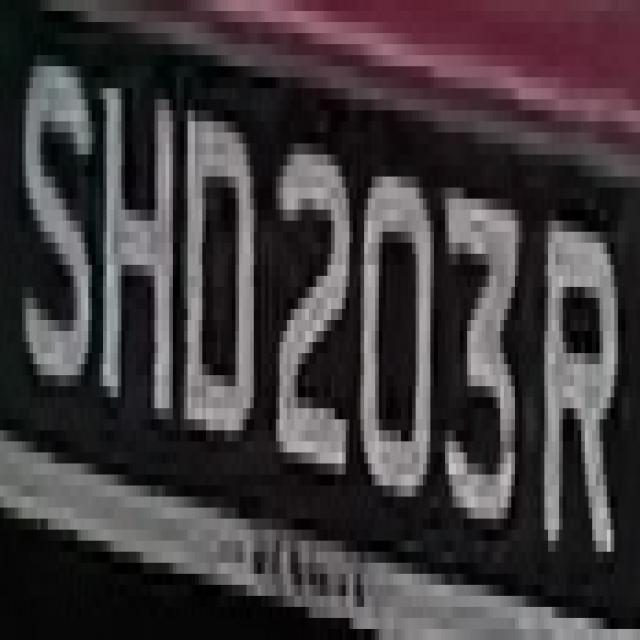0: (349, 121, 445, 508)
2: (276, 88, 349, 519)
3: (441, 154, 526, 540)
D: (184, 66, 257, 464)
H: (99, 22, 184, 452)
R: (534, 187, 626, 596)
S: (4, 11, 96, 397)
